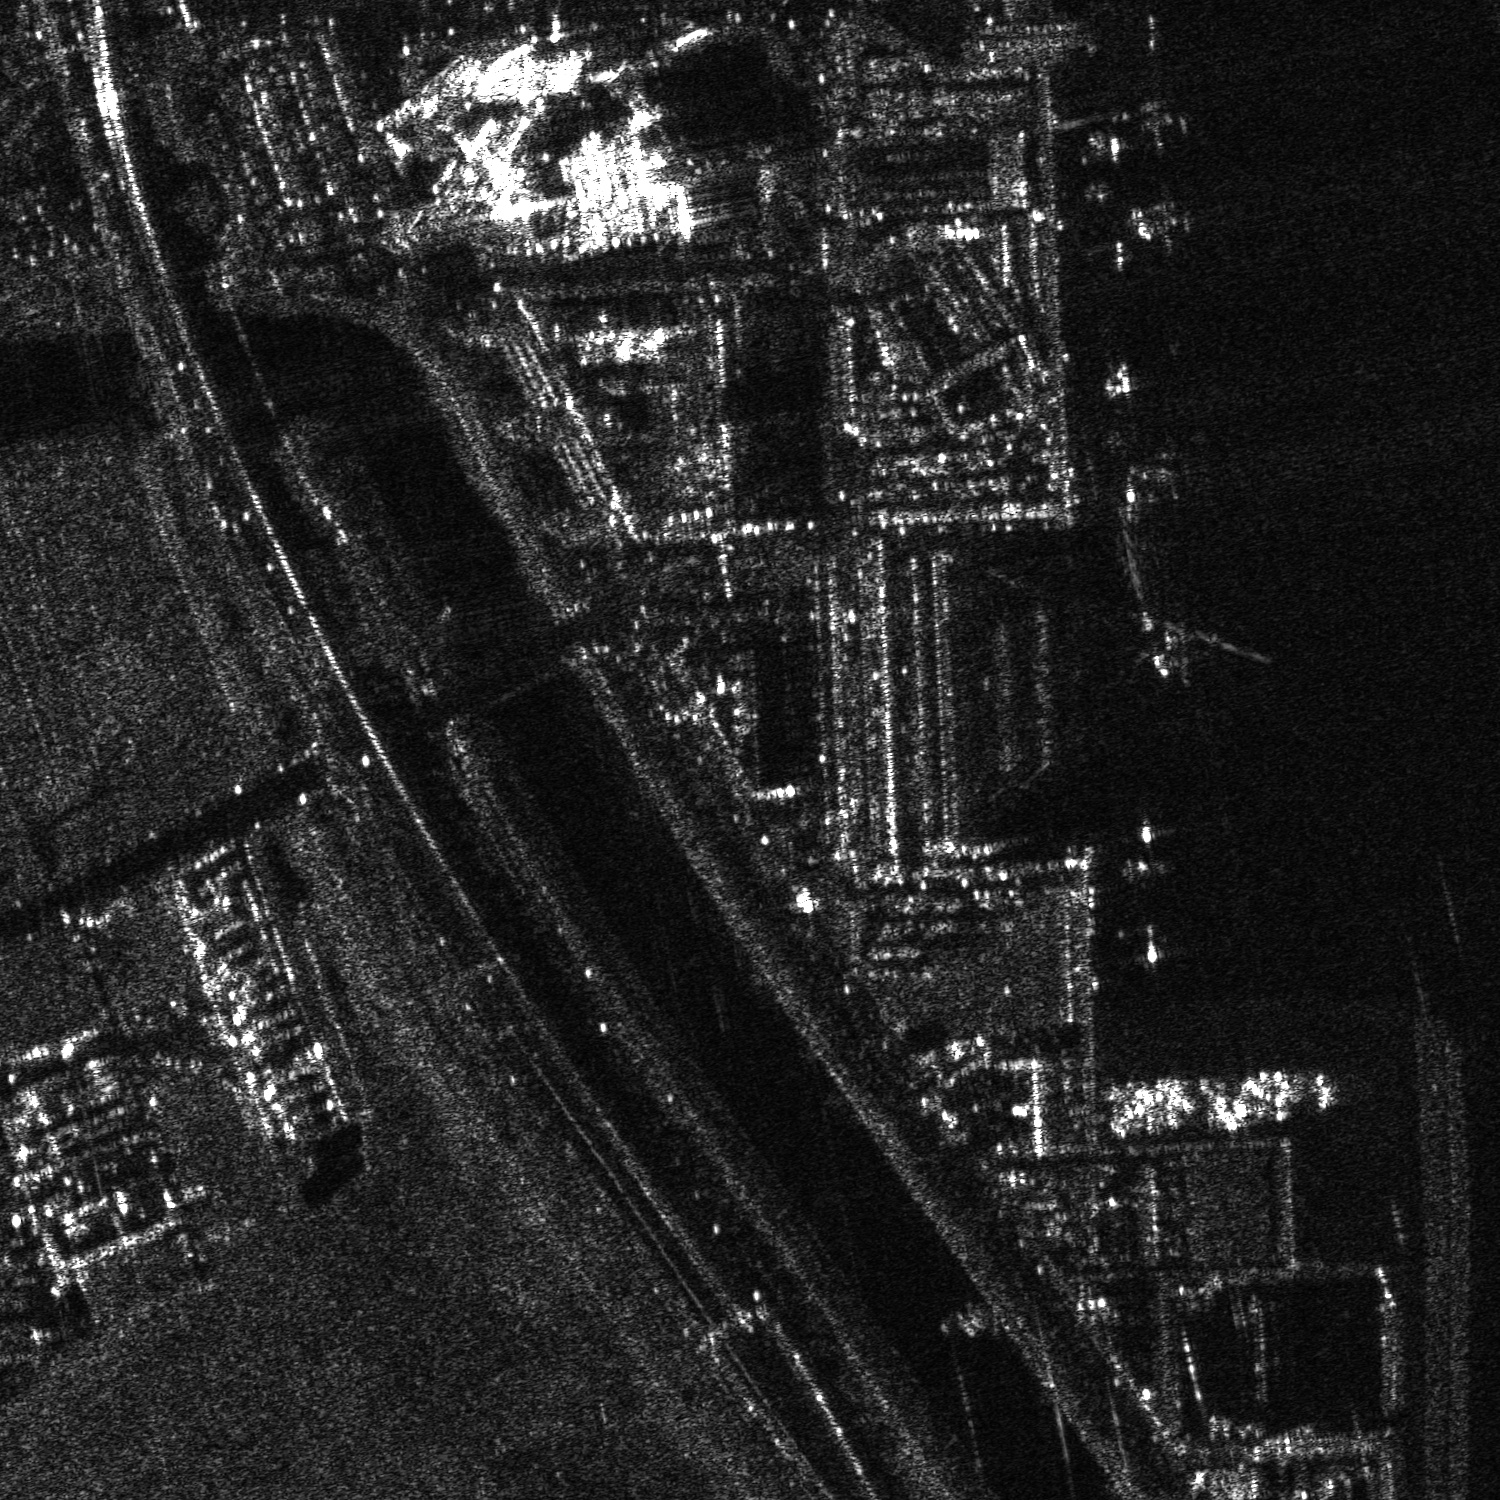A220: (1135, 598, 1218, 694), (1102, 93, 1198, 159), (1122, 181, 1201, 260)
other: (1194, 1060, 1264, 1141), (1246, 1054, 1313, 1125), (1130, 1074, 1188, 1140)
